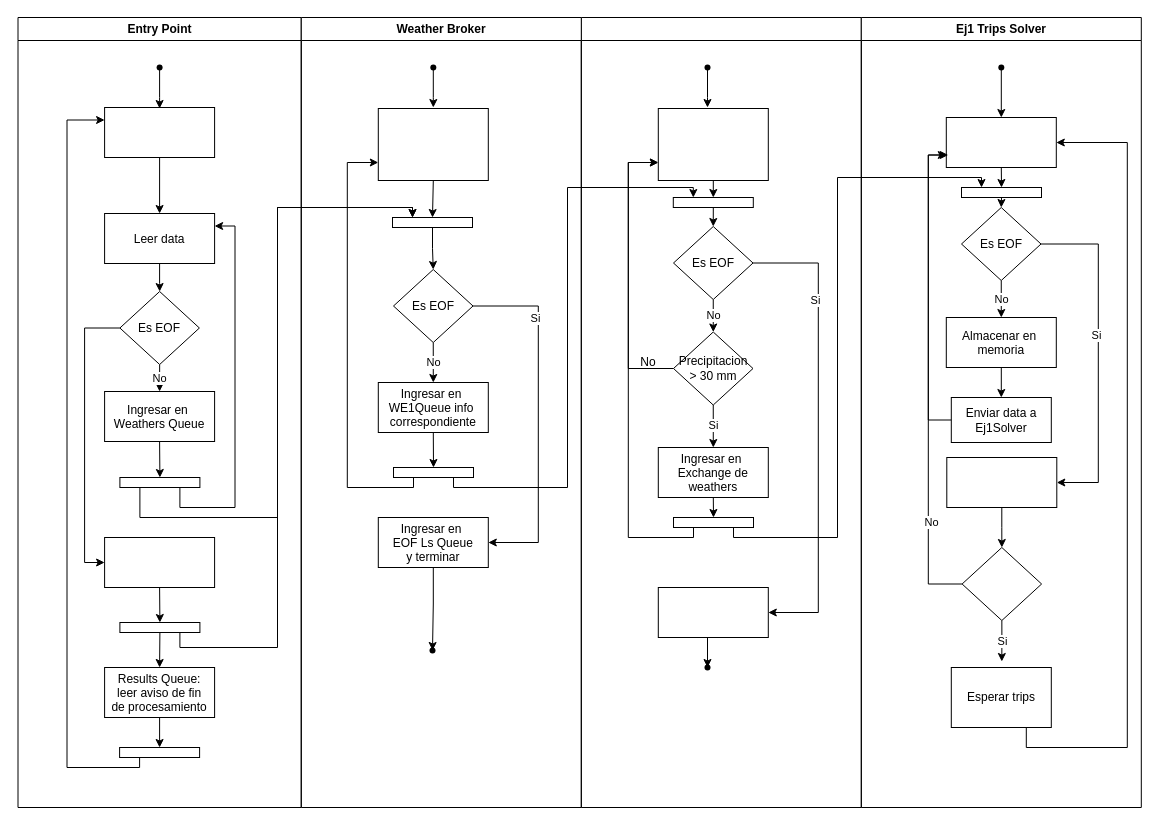
Some shapes in this 1159 by 825 pixel diagram are drawn without their labels. Each missing label, with the box of its shape:
Hay N: (961, 546, 1042, 620)
Incrementar contador de recibidos: (946, 456, 1057, 508)
Ingresar en Exchange de wathers y terminar: (657, 586, 768, 638)
Ingresar en Weathers Queue M EOFs: (104, 536, 215, 588)
Queue: leer data: (945, 116, 1056, 168)
Recibir info sobre cual sera el topico: (104, 106, 215, 158)
WE1Queue: leer data: (657, 108, 768, 180)
WeatherEj1 Filter: (580, 16, 861, 808)
Weathers Queue: leer data: (377, 108, 488, 180)
